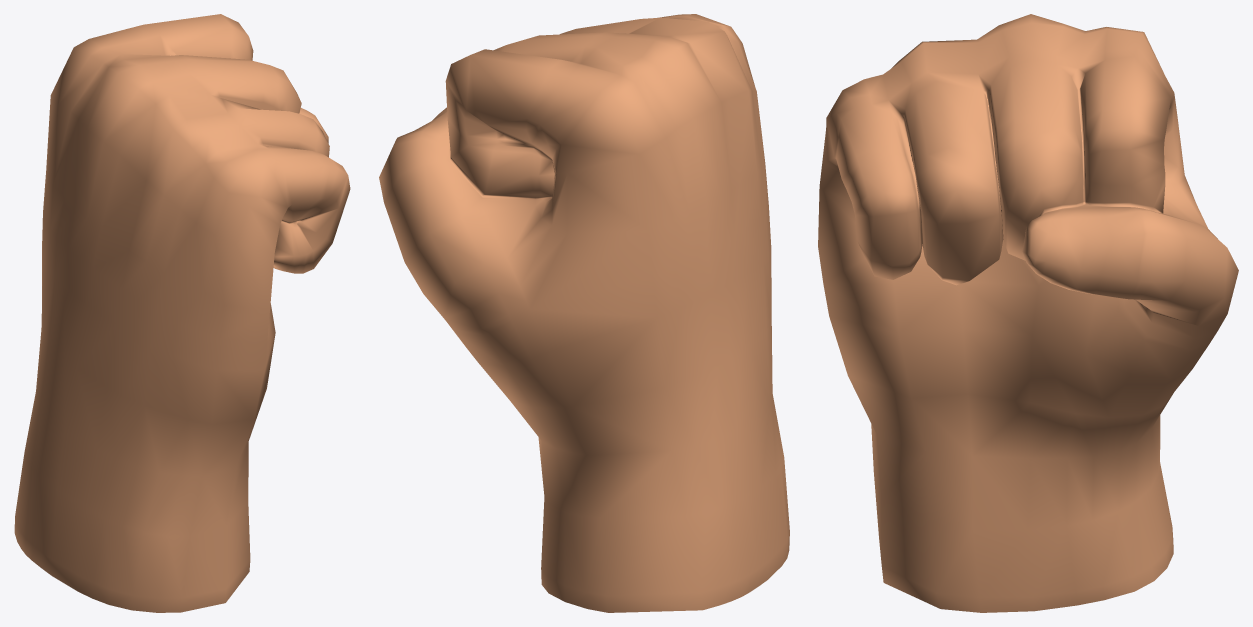
Rendered from Hand_fist.fbx.
The picture shows the model from 3 angles, left to right: view 1: azimuth 30°, elevation 25°; view 2: azimuth 150°, elevation 25°; view 3: azimuth 270°, elevation 25°; orthographic projection. The views are drawn at different scales.
Visible parts, largest first — view 1: Heart_anim:Handfist_heart:heart_explanation_v102:pasted__fis; view 2: Heart_anim:Handfist_heart:heart_explanation_v102:pasted__fis; view 3: Heart_anim:Handfist_heart:heart_explanation_v102:pasted__fis.
Boxes of the visible parts, x1,y1,x2,y2 form: Heart_anim:Handfist_heart:heart_explanation_v102:pasted__fis: (14,14,350,612); Heart_anim:Handfist_heart:heart_explanation_v102:pasted__fis: (379,14,789,612); Heart_anim:Handfist_heart:heart_explanation_v102:pasted__fis: (818,14,1238,612).
Size of the model in its own units: 300 by 473 by 329.
